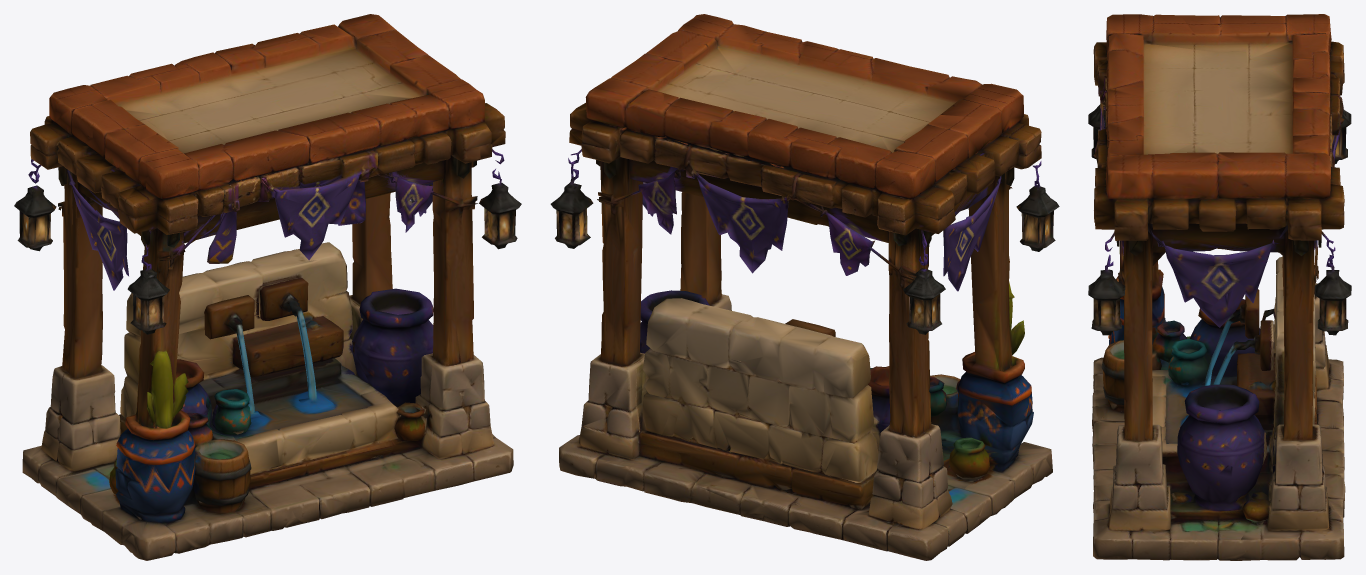
The model's file is pozo_de_piedra.glb.
3 renders of one model, left to right at view 1: azimuth 30°, elevation 25°; view 2: azimuth 150°, elevation 25°; view 3: azimuth 270°, elevation 25°, orthographic.
Parts seen in each view (by area): view 1: pozo_de_piedra; view 2: pozo_de_piedra; view 3: pozo_de_piedra.
Part boxes in pixels (x1,y1,x2,y2): pozo_de_piedra: [14, 14, 521, 560]; pozo_de_piedra: [550, 14, 1059, 560]; pozo_de_piedra: [1088, 14, 1351, 560].
Size of what is drawn, in the model's own units: 1.27 by 1.2 by 0.7541.
1 material, 1 textured.
